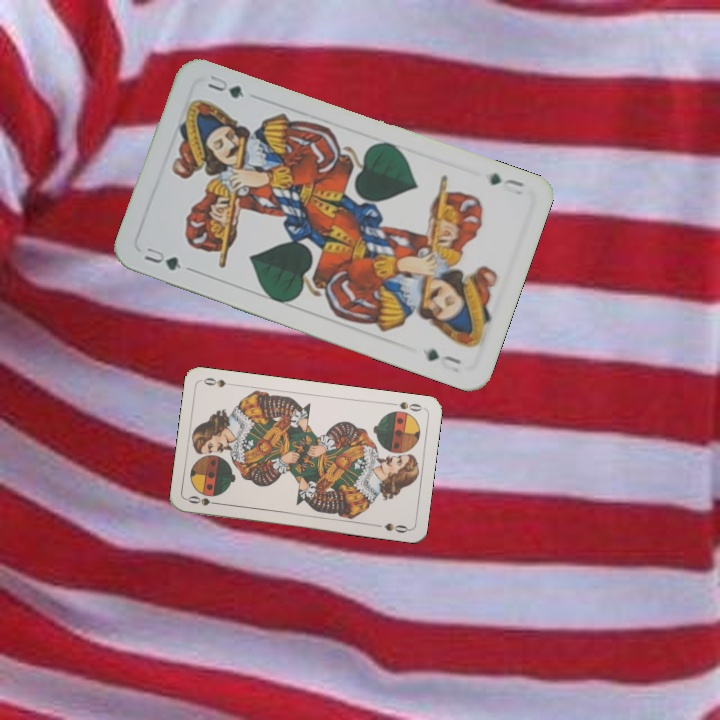GU: (140, 242, 184, 274), (485, 169, 527, 198)
SO: (386, 397, 426, 414), (184, 492, 224, 508)
